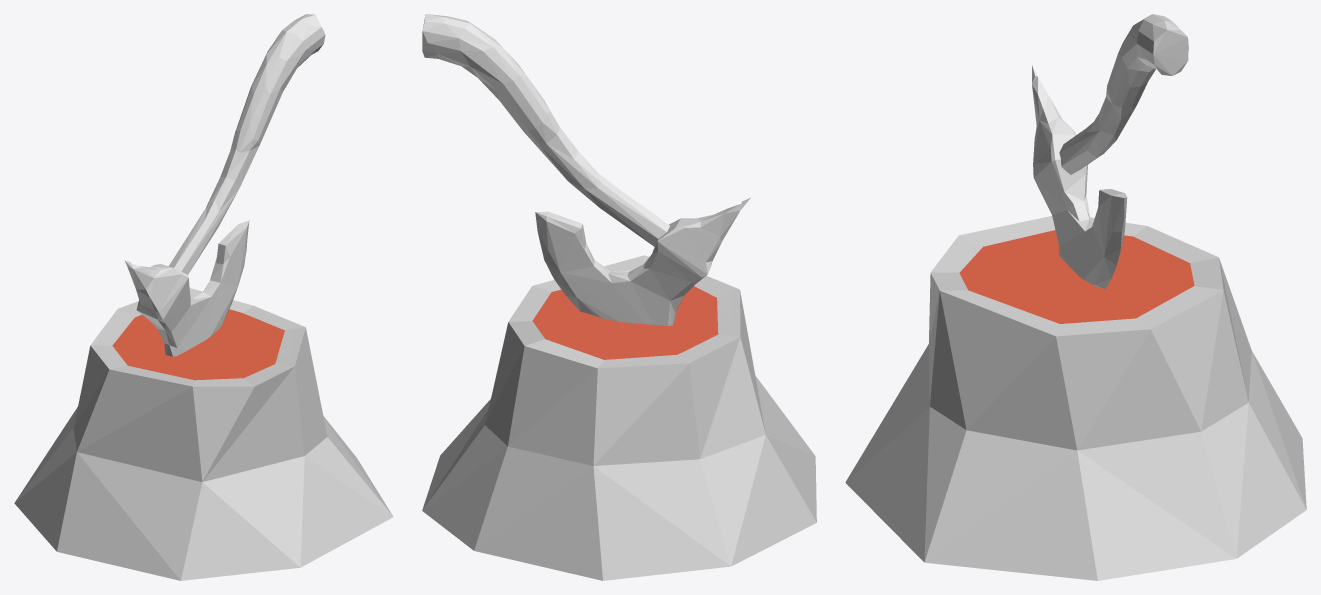
Rendered from BigTreeStump2.fbx.
3 renders of one model, left to right at view 1: azimuth 30°, elevation 25°; view 2: azimuth 150°, elevation 25°; view 3: azimuth 270°, elevation 25°, orthographic. The views are drawn at different scales.
Visible parts, largest first — view 1: TreeStump1, 3_low, 1_low; view 2: TreeStump1, 1_low, 3_low; view 3: TreeStump1, 1_low, 3_low.
Part boxes in pixels (x1=…): TreeStump1: x1=14, y1=288, x2=393, y2=580; 3_low: x1=169, y1=14, x2=325, y2=274; 1_low: x1=124, y1=220, x2=249, y2=356; TreeStump1: x1=422, y1=255, x2=816, y2=580; 1_low: x1=535, y1=197, x2=750, y2=325; 3_low: x1=422, y1=14, x2=669, y2=246; TreeStump1: x1=845, y1=216, x2=1306, y2=580; 1_low: x1=1032, y1=65, x2=1127, y2=289; 3_low: x1=1059, y1=14, x2=1188, y2=174.
Size of the model in its own units: 6.11 by 7.76 by 5.97.
